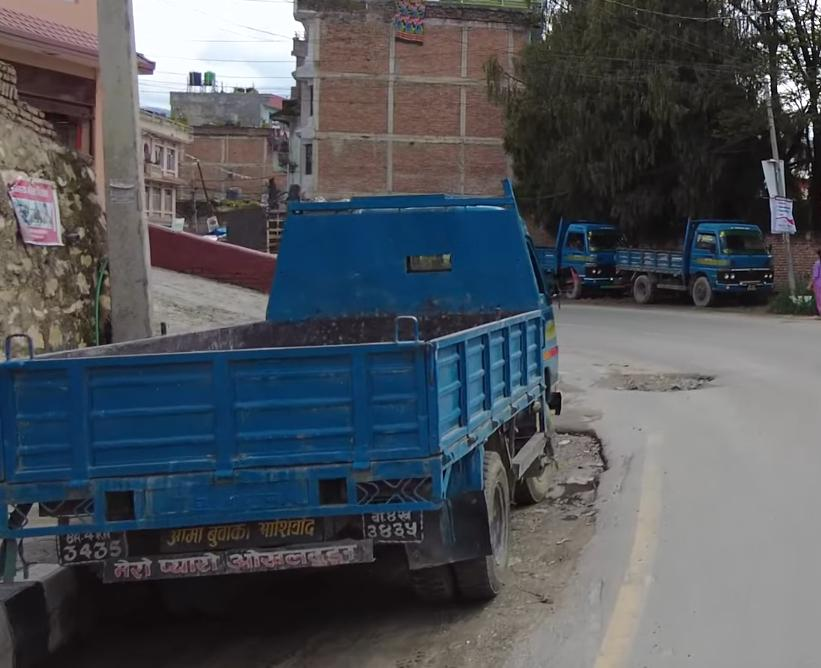mini_truck: (0, 169, 565, 614), (612, 216, 777, 308), (536, 214, 626, 295)
